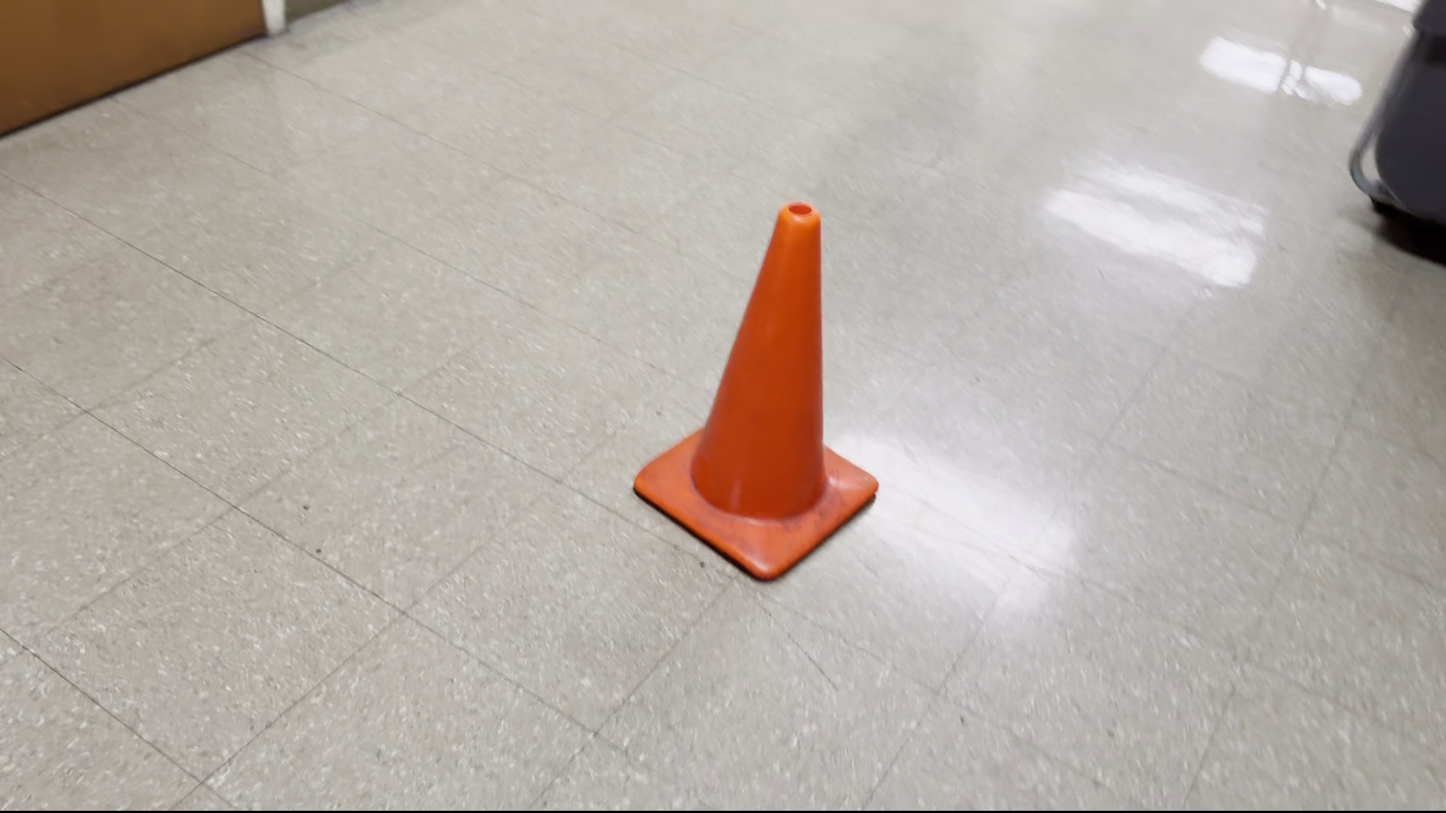traffic_cone: (631, 200, 879, 582)
